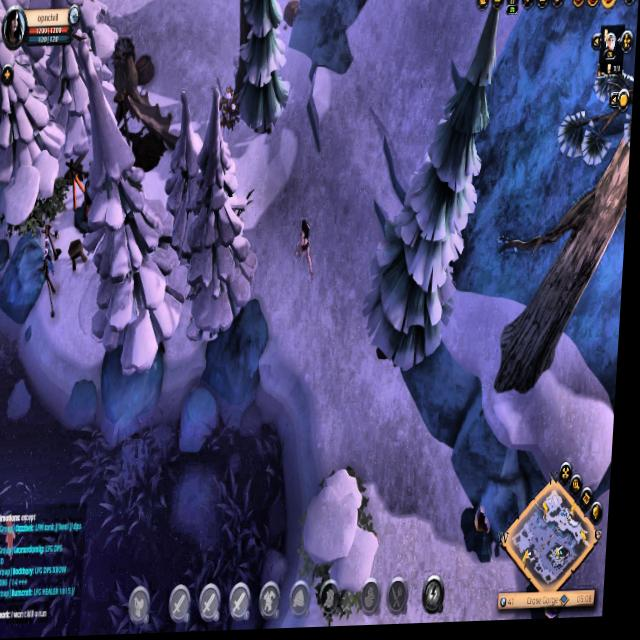copper_ore: (462, 499, 506, 575)
cotton: (218, 91, 243, 135)
